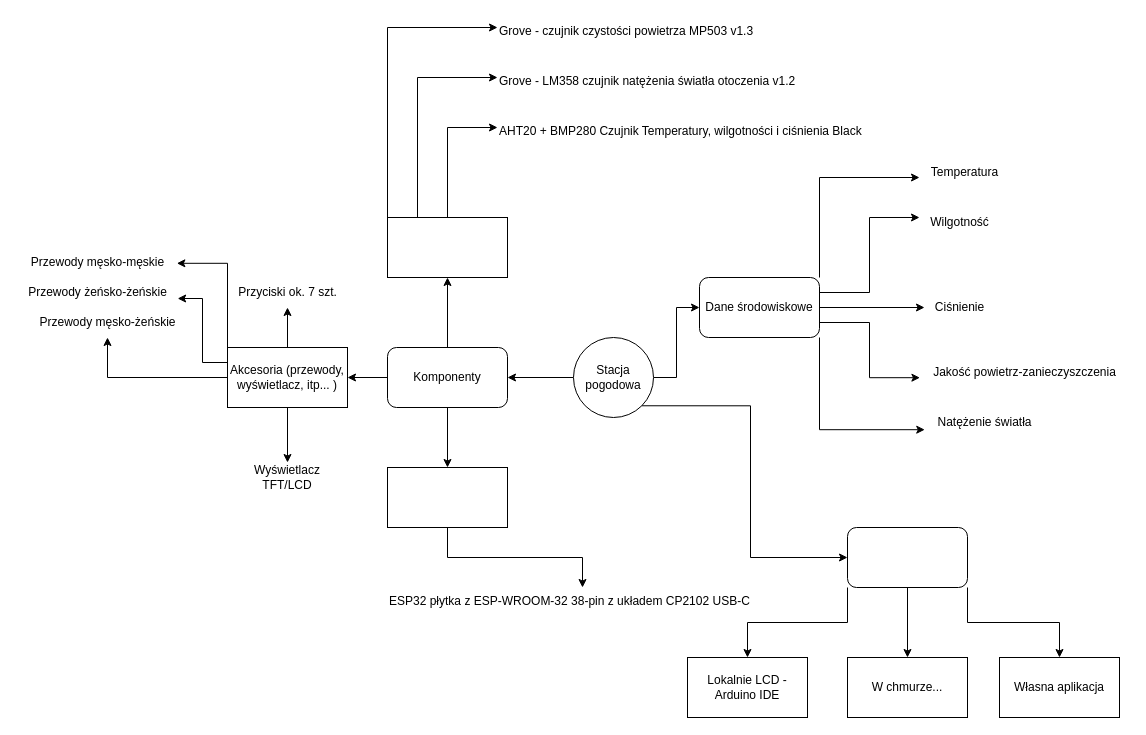
The diagram is 1146 pixels wide and 735 high, and some of its shapes have lost their labels. The shapes that lost their labels are listed below. From the top down, each one's centre as x and y in pixels, then its label:
At point (447, 247): "Czujniki".
At point (447, 497): "Płytka".
At point (907, 557): "Oprogramowanie".
